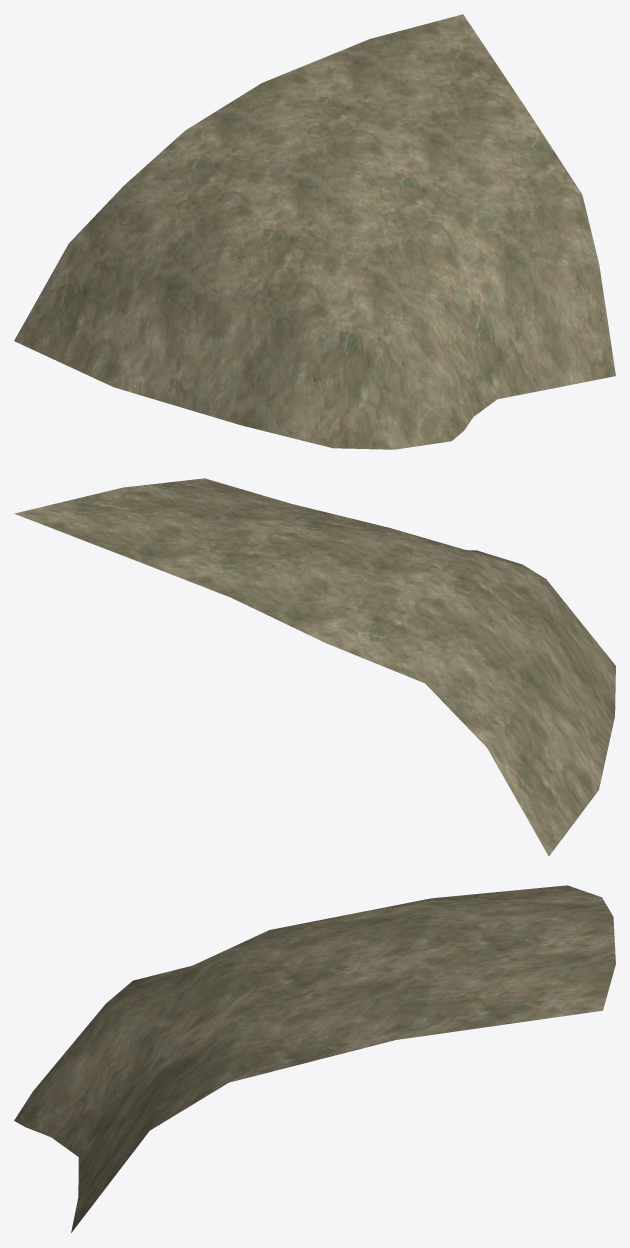
File: OVERHILL_A_01_OBJECT164.fbx
3 views of the same model, one above another, from view 1: azimuth 30°, elevation 25°; view 2: azimuth 150°, elevation 25°; view 3: azimuth 270°, elevation 25° (orthographic). The views are drawn at different scales.
Parts seen in each view (by area): view 1: OVERHILL_A_01_OBJECT164; view 2: OVERHILL_A_01_OBJECT164; view 3: OVERHILL_A_01_OBJECT164.
Part boxes in pixels (x1=…): OVERHILL_A_01_OBJECT164: x1=14, y1=14, x2=615, y2=449; OVERHILL_A_01_OBJECT164: x1=14, y1=478, x2=615, y2=855; OVERHILL_A_01_OBJECT164: x1=14, y1=885, x2=615, y2=1232.
Bounding box in the file's own units: 246576 × 103535 × 214611.
Materials: 2 (2 with a texture image).
